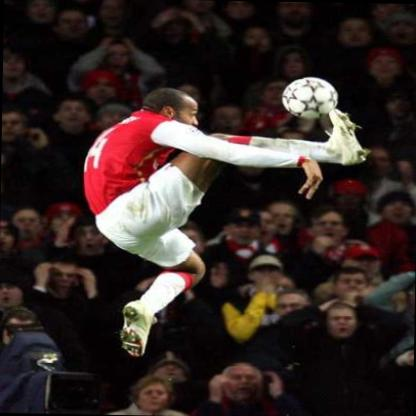ball: (283, 76, 338, 120)
